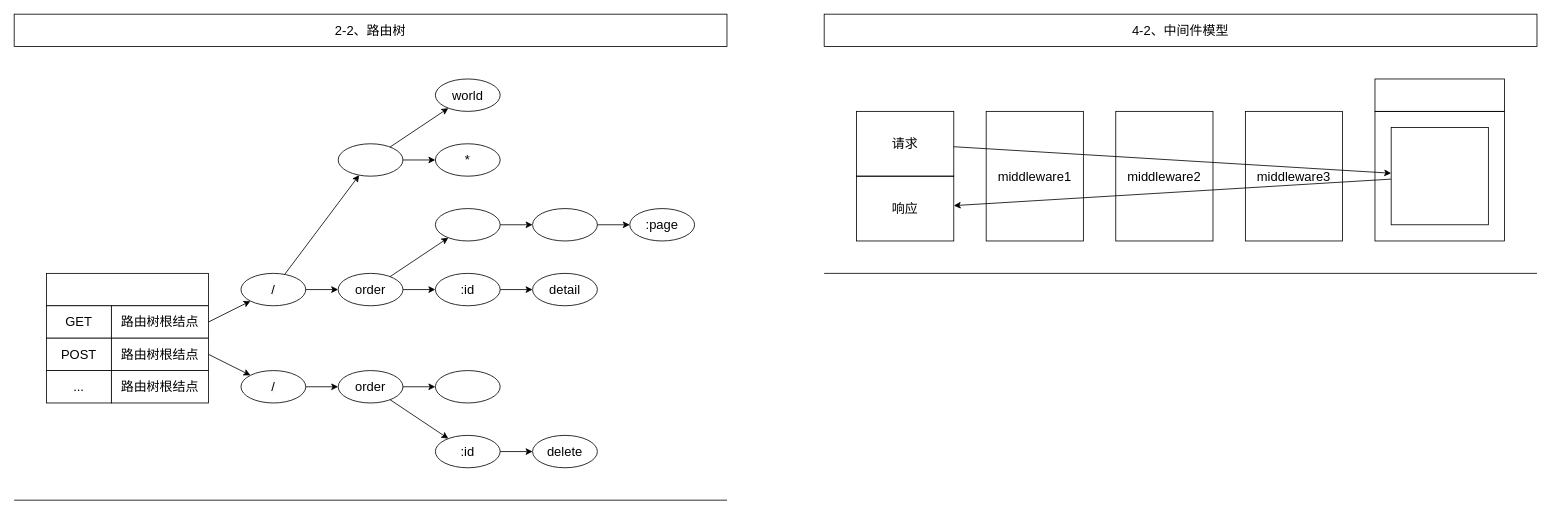
This 1552x515 diagram has some shape labels left out. The box of each missing label's shape, as (x1, y1, x2, y2) in pixels:
:size: (532, 208, 597, 241)
create: (435, 370, 500, 403)
hello: (337, 143, 403, 176)
list: (435, 208, 500, 241)
map router: (46, 273, 209, 306)
业务: (1390, 127, 1488, 225)
服务: (1374, 78, 1505, 111)
